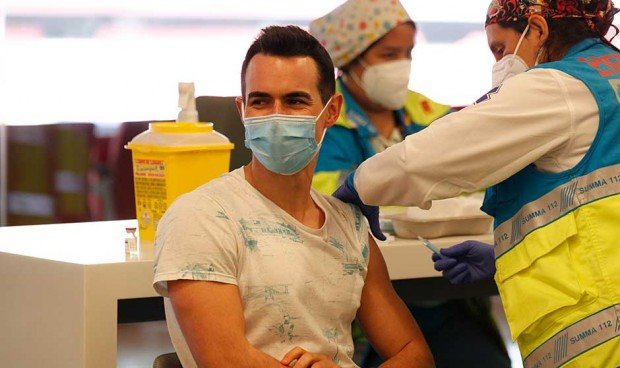with_mask: (243, 75, 327, 176), (350, 19, 415, 110), (481, 20, 535, 105)
